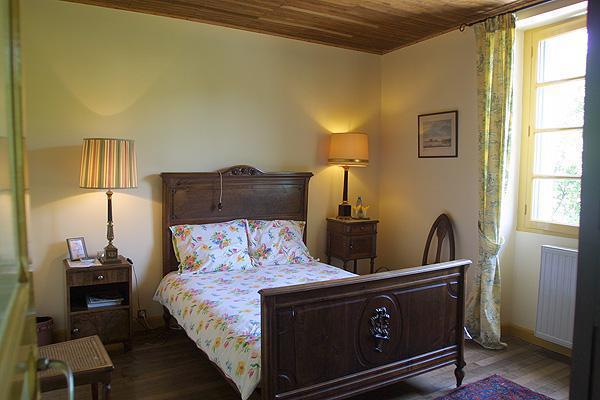Cama: (156, 173, 466, 392)
Otro Obstaculo: (535, 244, 574, 352)
Ventana: (527, 33, 584, 236)
